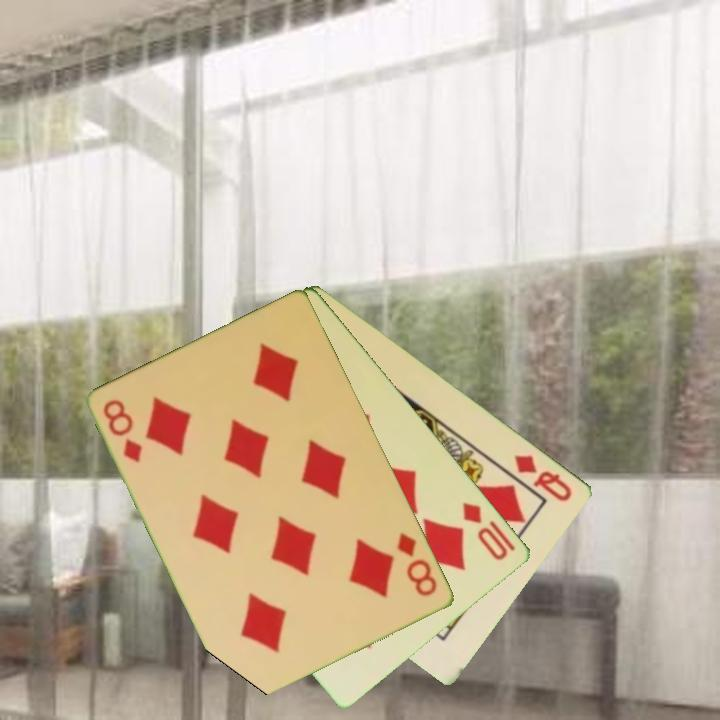10d: (459, 498, 511, 564)
8d: (394, 529, 441, 600), (99, 396, 146, 466)
Qd: (511, 451, 576, 505)
